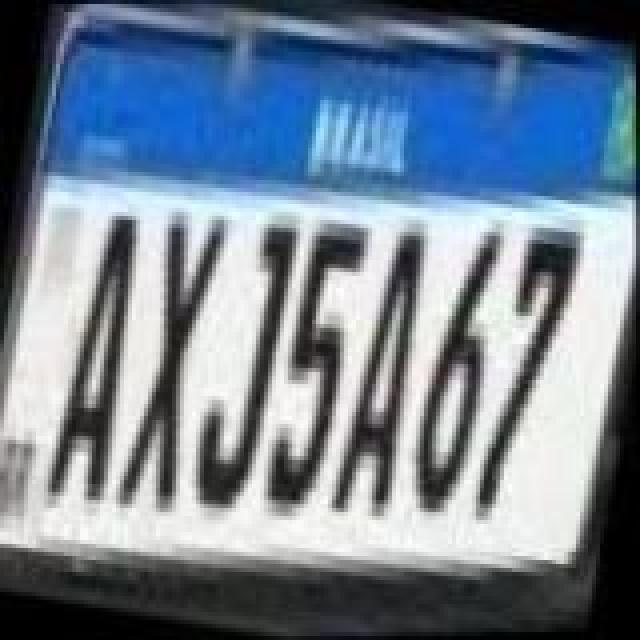5: (254, 206, 382, 526)
6: (394, 214, 514, 530)
7: (464, 208, 588, 528)
A: (36, 196, 160, 516), (322, 220, 442, 524)
J: (182, 204, 310, 524)
X: (110, 194, 238, 526)
